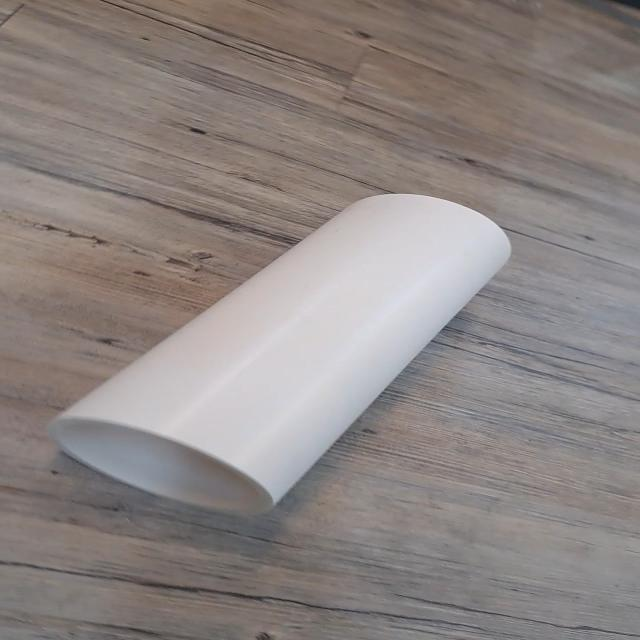CORAL: (16, 139, 558, 566)
